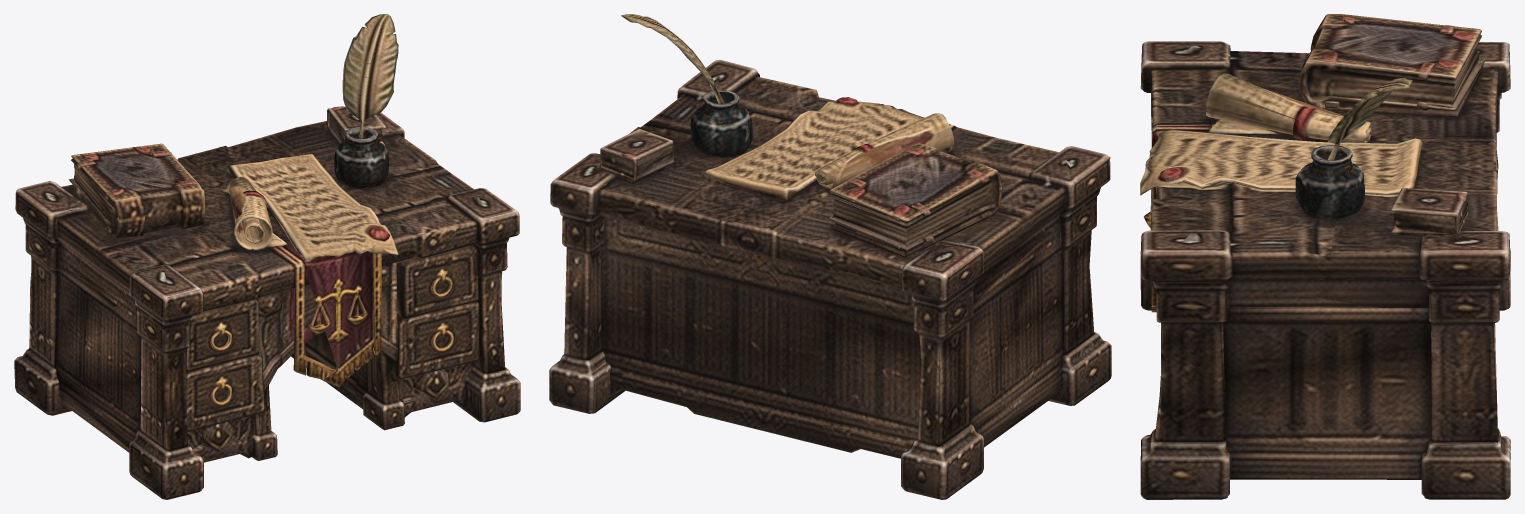
Rendered from desk.glb.
The picture shows the model from 3 angles, left to right: view 1: azimuth 30°, elevation 25°; view 2: azimuth 150°, elevation 25°; view 3: azimuth 270°, elevation 25°; orthographic projection. The views are drawn at different scales.
Parts seen in each view (by area): view 1: Mesh_0; view 2: Mesh_0; view 3: Mesh_0.
Boxes of the visible parts, x1,y1,x2,y2 form: Mesh_0: (14, 14, 520, 499); Mesh_0: (549, 14, 1111, 499); Mesh_0: (1140, 14, 1510, 499).
Size of the model in its own units: 0.9409 by 0.8232 by 0.6914.
1 material, 1 textured.
